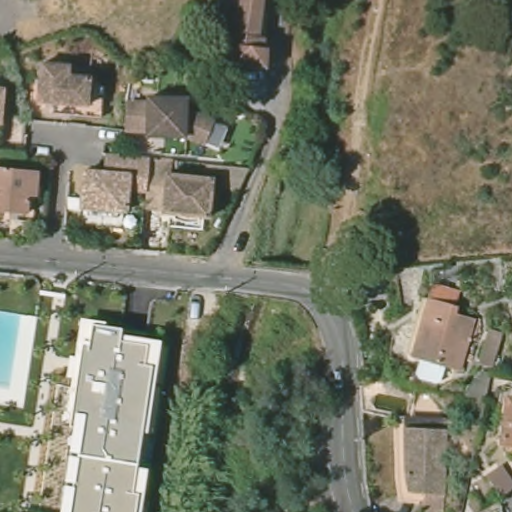pool: (1, 308, 22, 395)
